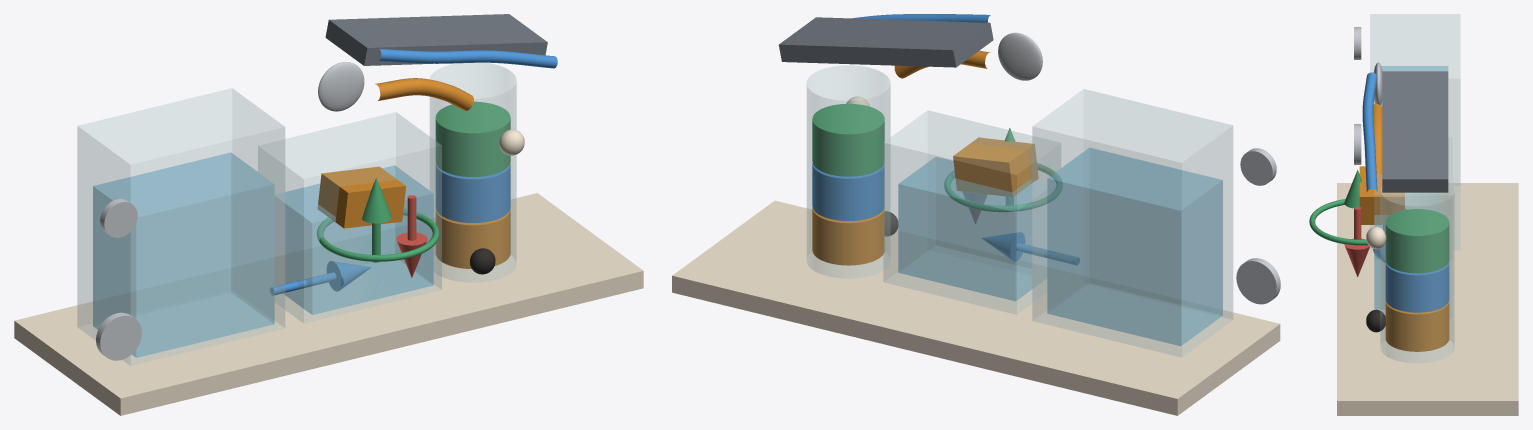
File: physics-fluids-apparatus-suite.glb
3 views of the same model, side by side, from view 1: azimuth 30°, elevation 25°; view 2: azimuth 150°, elevation 25°; view 3: azimuth 270°, elevation 25° (orthographic). The views are drawn at different scales.
Parts seen in each view (by area): view 1: lab-bench-base, clear-pressure-tank-glass, blue-water-column, buoyancy-tank-glass, density-column-glass-cylinder, buoyancy-water-volume, viscosity-flow-ramp, oil-top-layer, floating-block-object, water-middle-layer, dense-syrup-bottom-layer, fast-water-flow-channel (+9 smaller); view 2: lab-bench-base, clear-pressure-tank-glass, blue-water-column, buoyancy-tank-glass, density-column-glass-cylinder, buoyancy-water-volume, viscosity-flow-ramp, oil-top-layer, floating-block-object, dense-syrup-bottom-layer, water-middle-layer, flow-rate-comparison-stopwatch (+6 smaller); view 3: lab-bench-base, density-column-glass-cylinder, viscosity-flow-ramp, clear-pressure-tank-glass, oil-top-layer, water-middle-layer, dense-syrup-bottom-layer, buoyancy-tank-glass, floating-block-object, buoyancy-water-volume, fast-water-flow-channel, displaced-fluid-outline (+10 smaller).
Part boxes in pixels (bbox=[...]): lab-bench-base: bbox=[14, 193, 643, 415]; clear-pressure-tank-glass: bbox=[77, 88, 284, 365]; blue-water-column: bbox=[93, 152, 274, 357]; buoyancy-tank-glass: bbox=[258, 112, 441, 323]; density-column-glass-cylinder: bbox=[430, 63, 516, 282]; buoyancy-water-volume: bbox=[275, 165, 433, 314]; viscosity-flow-ramp: bbox=[325, 14, 547, 65]; oil-top-layer: bbox=[435, 101, 510, 176]; floating-block-object: bbox=[318, 166, 406, 228]; water-middle-layer: bbox=[436, 163, 510, 222]; dense-syrup-bottom-layer: bbox=[436, 209, 510, 268]; fast-water-flow-channel: bbox=[379, 48, 557, 68]; lab-bench-base: bbox=[672, 200, 1280, 415]; clear-pressure-tank-glass: bbox=[1032, 89, 1232, 357]; blue-water-column: bbox=[1047, 147, 1222, 345]; buoyancy-tank-glass: bbox=[883, 110, 1060, 314]; density-column-glass-cylinder: bbox=[807, 65, 890, 278]; buoyancy-water-volume: bbox=[898, 157, 1046, 301]; viscosity-flow-ramp: bbox=[779, 17, 993, 67]; oil-top-layer: bbox=[812, 103, 884, 176]; floating-block-object: bbox=[953, 137, 1038, 196]; dense-syrup-bottom-layer: bbox=[812, 208, 884, 265]; water-middle-layer: bbox=[812, 163, 884, 220]; flow-rate-comparison-stopwatch: bbox=[998, 32, 1042, 80]; lab-bench-base: bbox=[1337, 183, 1518, 415]; density-column-glass-cylinder: bbox=[1380, 182, 1454, 362]; viscosity-flow-ramp: bbox=[1382, 71, 1448, 192]; clear-pressure-tank-glass: bbox=[1370, 14, 1460, 249]; oil-top-layer: bbox=[1385, 209, 1449, 273]; water-middle-layer: bbox=[1385, 262, 1449, 312]; dense-syrup-bottom-layer: bbox=[1385, 301, 1449, 351]; buoyancy-tank-glass: bbox=[1374, 138, 1452, 318]; floating-block-object: bbox=[1359, 166, 1404, 224]; buoyancy-water-volume: bbox=[1374, 193, 1439, 309]; fast-water-flow-channel: bbox=[1362, 72, 1377, 192]; displaced-fluid-outline: bbox=[1309, 199, 1406, 245].
Size of what is drawn, in the model's own units: 2.55 by 1.3 by 1.01.
